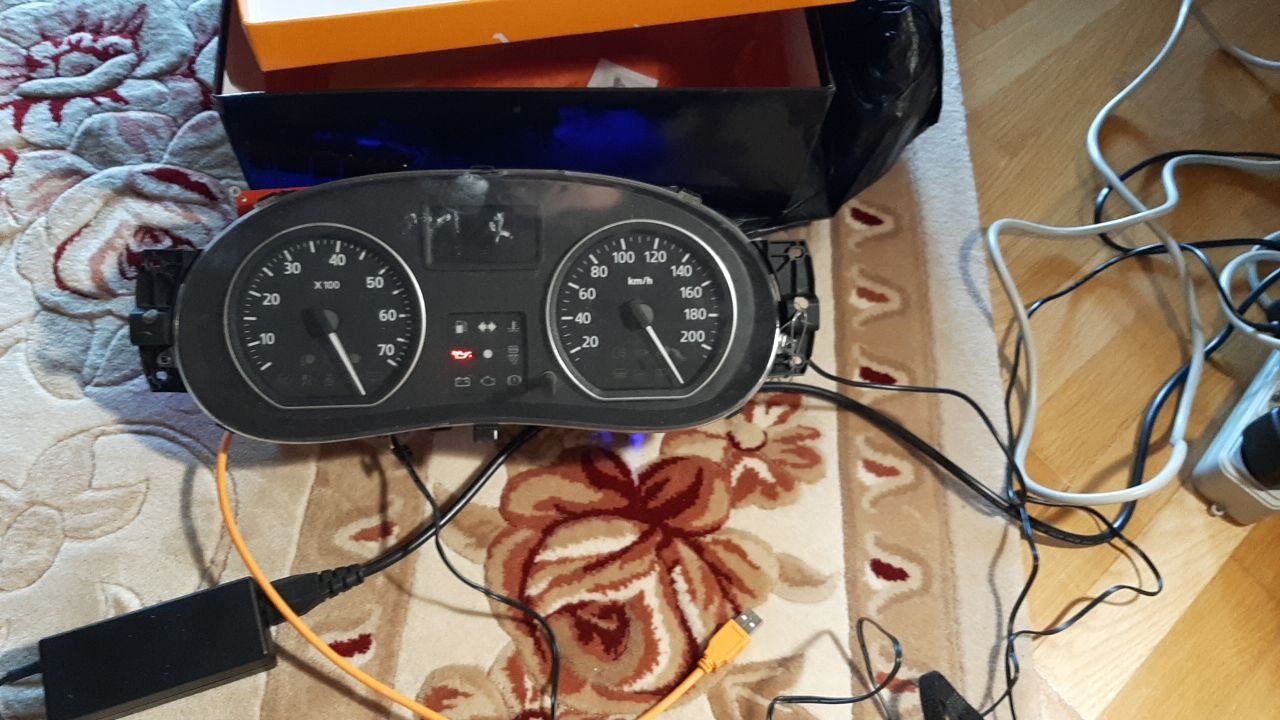oil: (447, 348, 476, 365)
